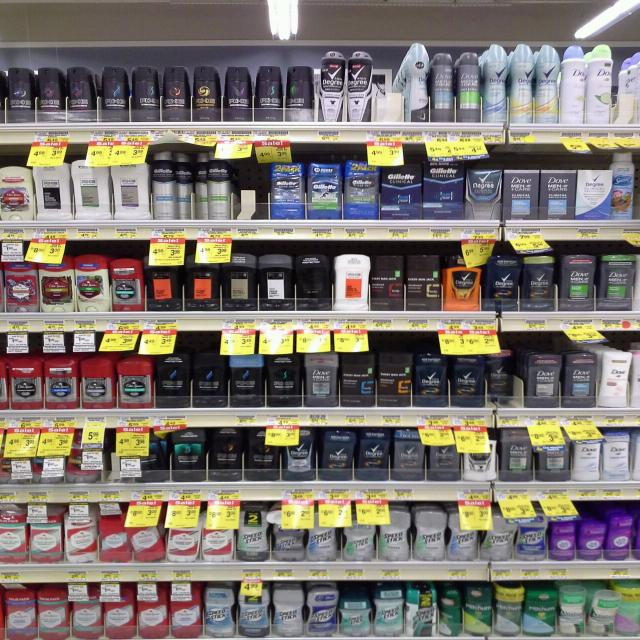unorganised: (560, 41, 588, 128), (178, 150, 208, 221), (599, 347, 633, 409), (480, 509, 517, 563), (126, 516, 166, 563), (586, 587, 621, 637), (488, 348, 517, 405), (437, 585, 463, 639)
